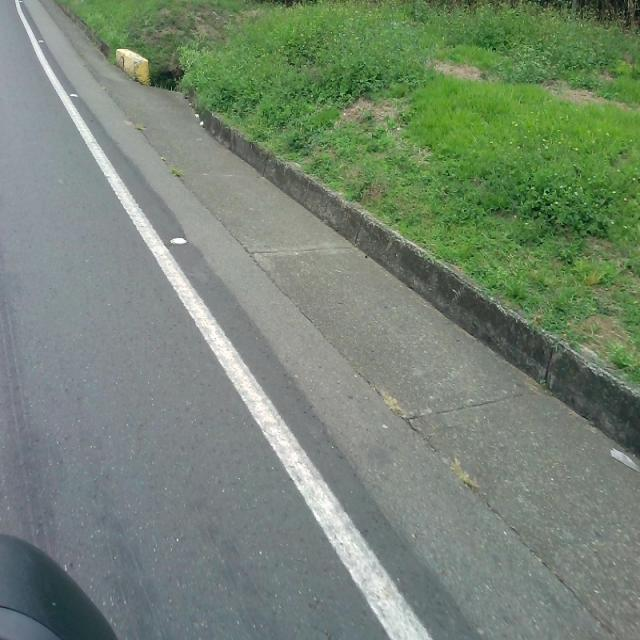DITCH: (2, 1, 638, 638), (1, 40, 639, 638)
